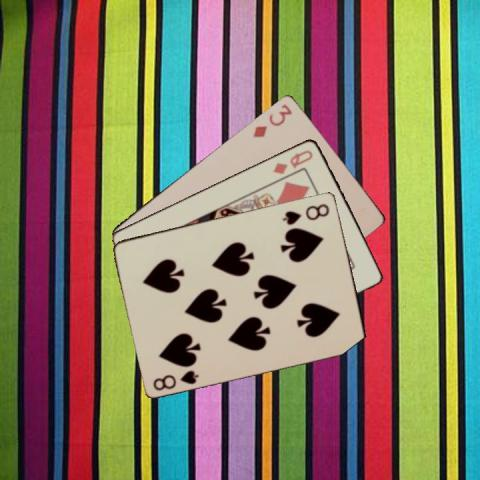3d: (250, 100, 294, 138)
8s: (280, 200, 332, 226), (150, 367, 201, 392)
Qd: (269, 146, 315, 175)
